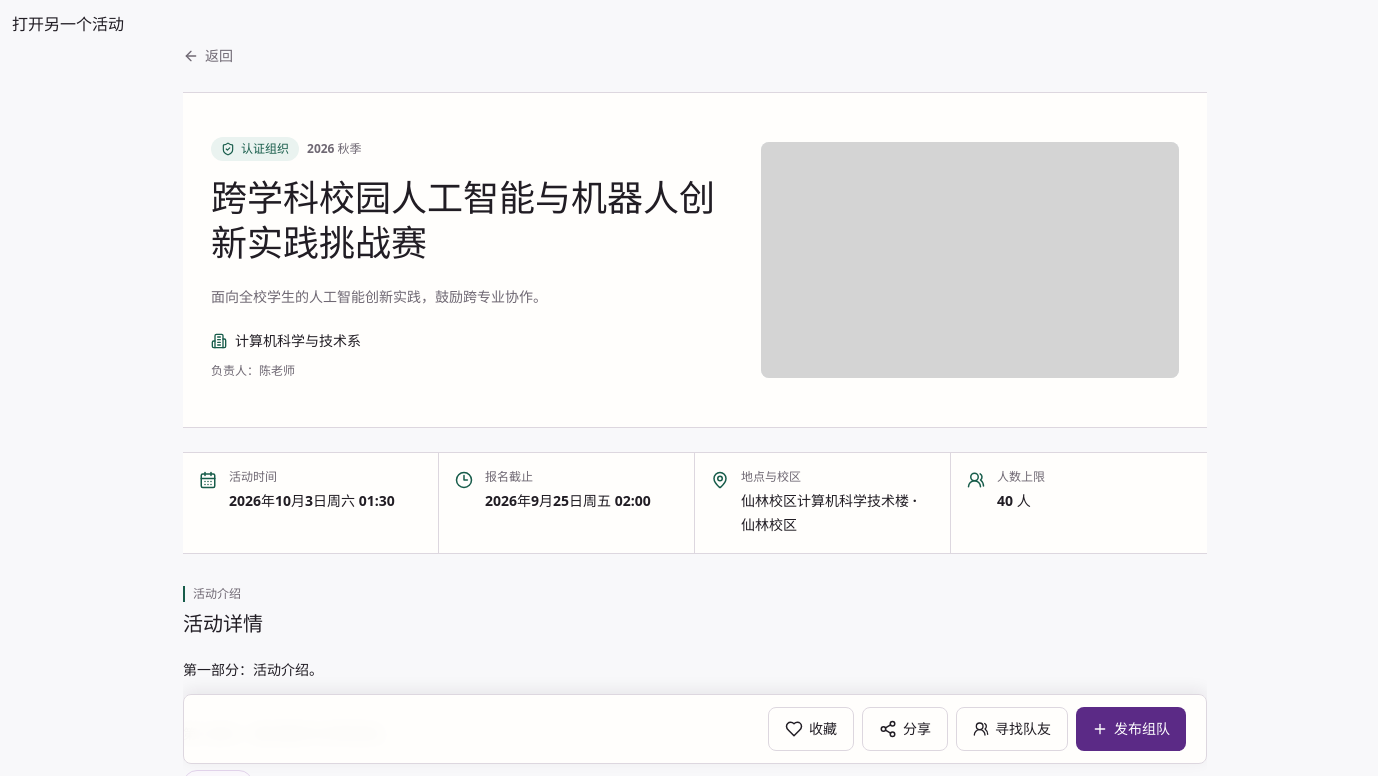
Test case: TopicDetail activity experience › reports a share failure when the browser exposes no sharing API
The image size is (1378, 776).
What coordinates should you click on to do the following:
click the button with aria-label "分享活动"
I would click on:
 (905, 729)
Its box is [862,707,948,751].
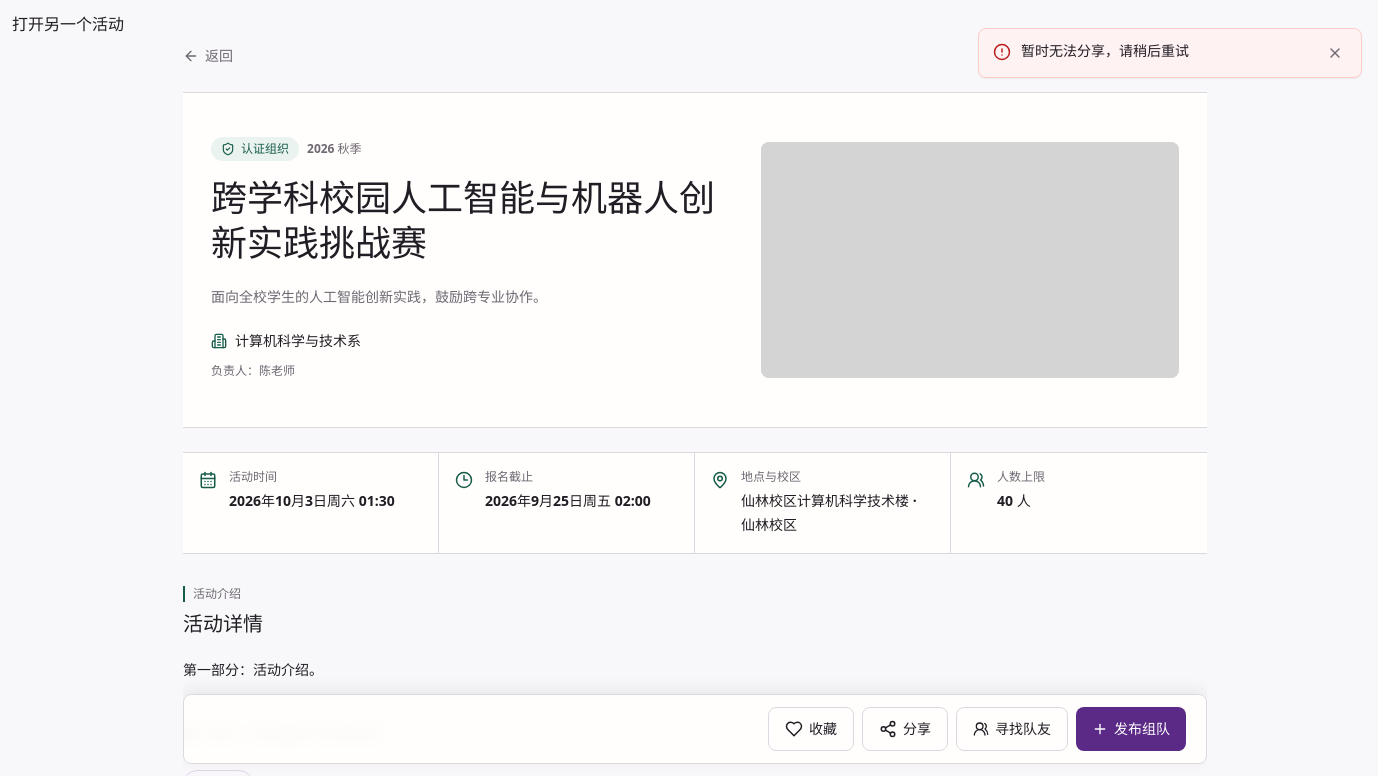
Check: the text "暂时无法分享，请稍后重试" is shown, box [1021,41,1189,60]
